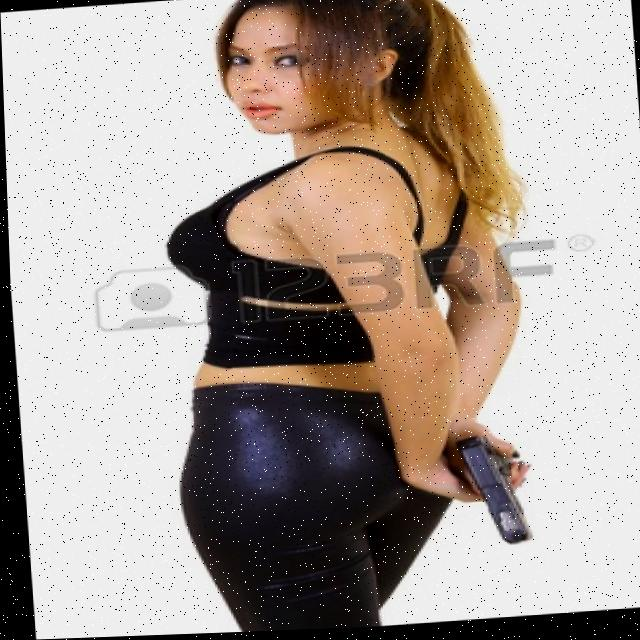pistol: (449, 434, 529, 552)
